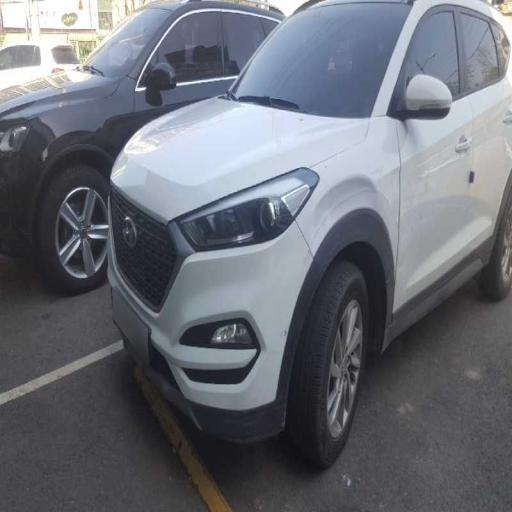dent: (117, 26, 490, 381)
